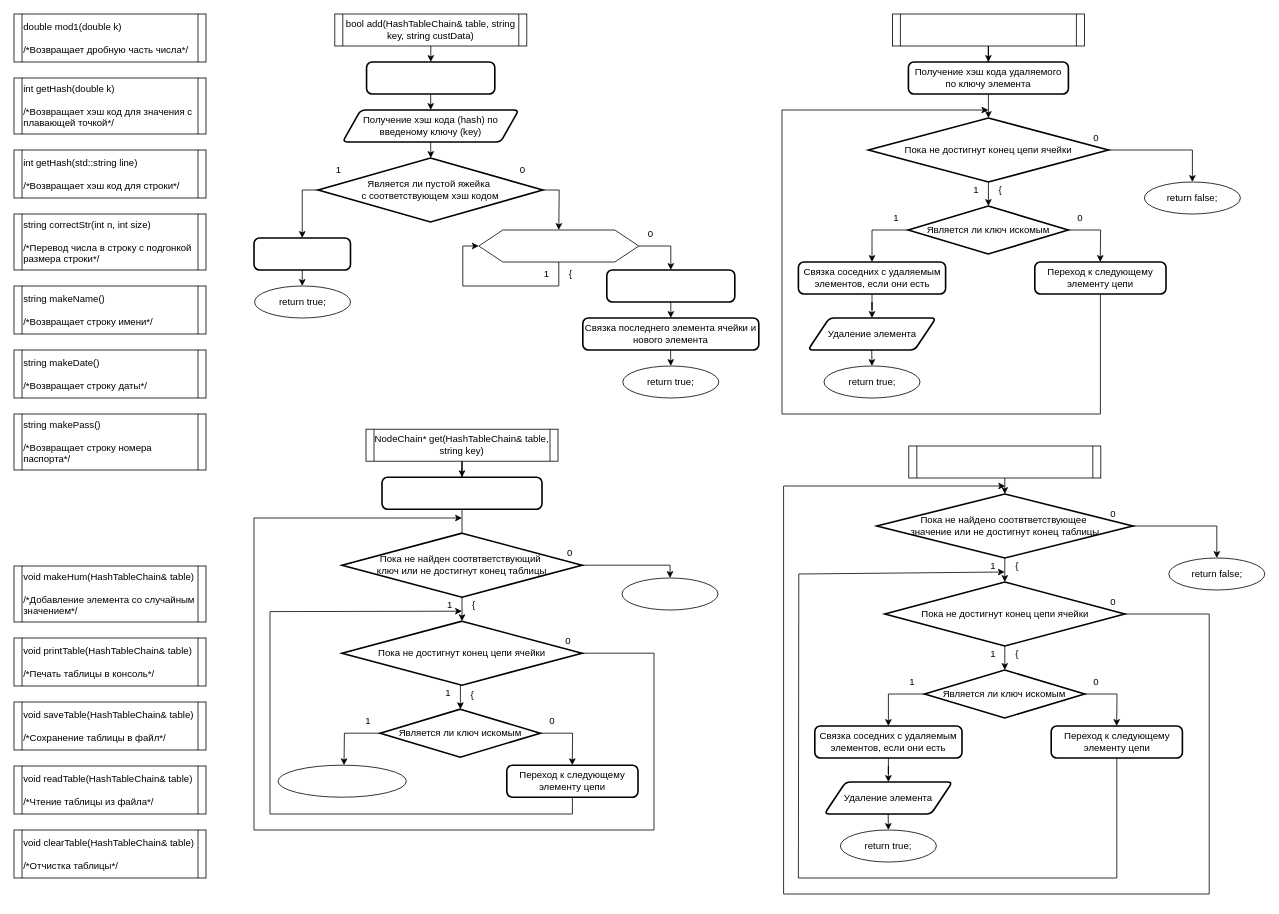
Some shapes in this 1279 by 914 pixel diagram are drawn without their labels. The centre of each missing label's shape, as x and y in pixels:
bool removeByData(HashTableChain& table, string dat): (1004,461)
bool removeByKey(HashTableChain& table, string key): (988,29)
return /*указатель на элемент*/: (341,780)
return nullptr;: (669,593)
Выделение памяти прод новый элемент (newNode): (430,77)
Добавление newNode в таблицу: (302,253)
Поиск пустого указателя в ячейке: (558,245)
Получение хэш кода искомого по ключу элемента: (461,493)
Сохранение числа колизий: (670,285)
